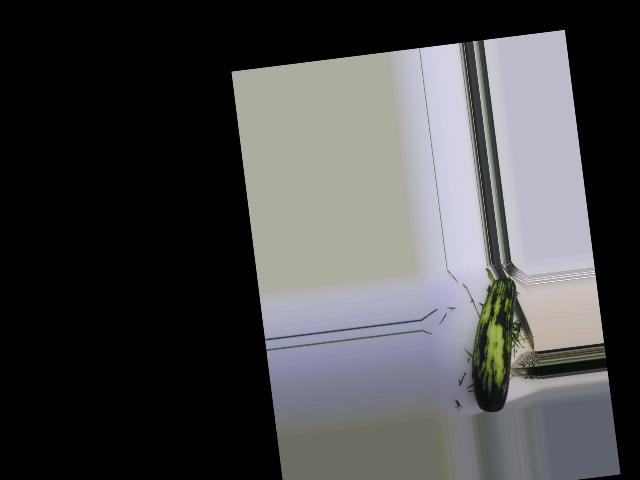cucumber: (460, 275, 531, 413)
